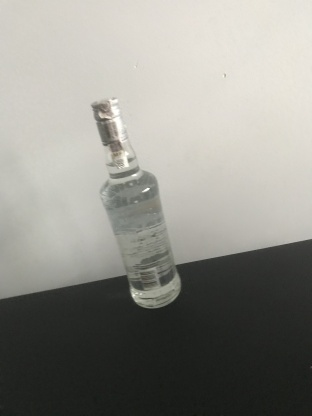nakretka: (89, 95, 130, 146)
